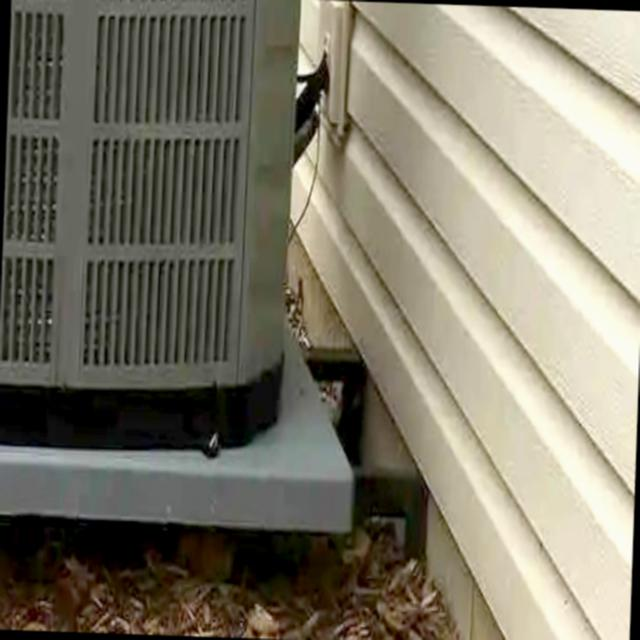SPLIT-SYSTEM: (0, 0, 331, 495)
